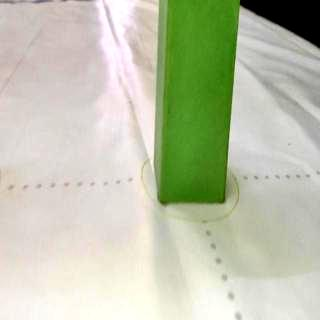greenbox: (156, 0, 242, 202)
